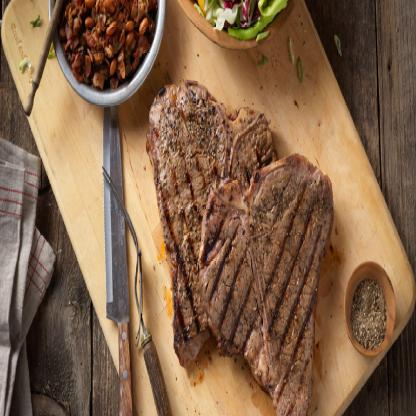Carne: (241, 147, 336, 416), (157, 78, 228, 376), (198, 167, 278, 386)
